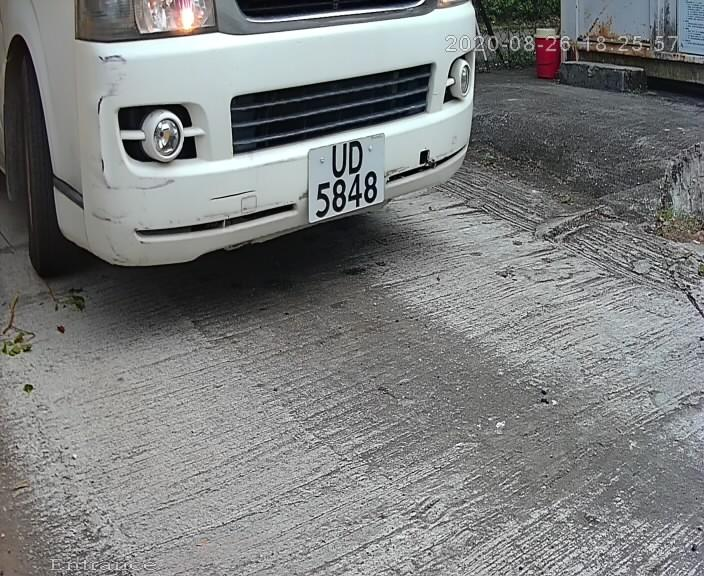Car: (10, 6, 532, 312)
License Plate: (293, 129, 397, 227)
